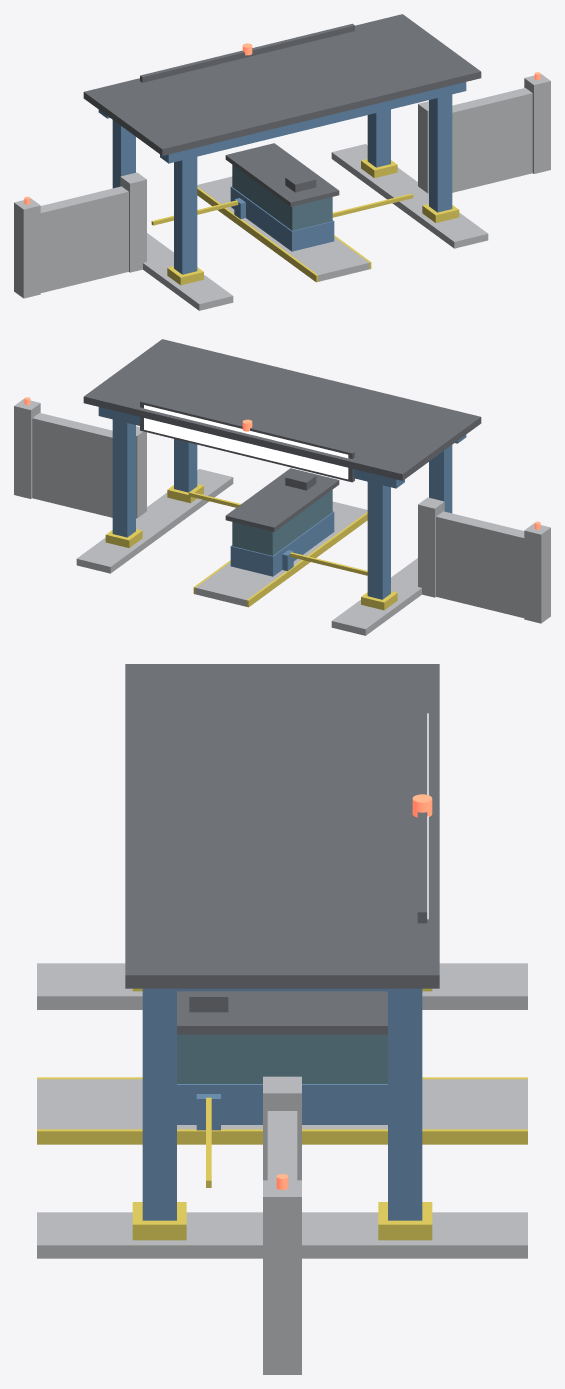
The model's file is harbor_security_gate.glb.
The picture shows the model from 3 angles, top to bottom: view 1: azimuth 30°, elevation 25°; view 2: azimuth 150°, elevation 25°; view 3: azimuth 270°, elevation 25°; orthographic projection. The views are drawn at different scales.
Visible parts, largest first — view 1: Canopy_Roof, Wall_Left_1, Wall_Right_1, Right_Curb, Booth_Roof, Canopy_Pillar_6.0_-2.5, Canopy_Pillar_-6.0_-2.5, Overhead_Beam_Rear, Center_Island, Wall_Left_Post_2, Booth_Glass, Left_Curb (+13 smaller); view 2: Canopy_Roof, Wall_Left_1, Wall_Right_1, Right_Curb, Sign_Plate_Front, Booth_Roof, Canopy_Pillar_6.0_2.5, Canopy_Pillar_-6.0_2.5, Center_Island, Wall_Left_Post_2, Booth_Glass, Left_Curb (+14 smaller); view 3: Canopy_Roof, Right_Curb, Center_Island, Booth_Glass, Left_Curb, Booth_Roof, Canopy_Pillar_6.0_2.5, Canopy_Pillar_6.0_-2.5, Wall_Right_Post_2, Booth_Base, Center_Curb_Hazard_R, Sign_Frame_Front (+6 smaller).
Boxes of the visible parts, bbox=[...] form: Canopy_Roof: bbox=[83, 14, 481, 155]; Wall_Left_1: bbox=[40, 186, 128, 292]; Wall_Right_1: bbox=[452, 88, 532, 192]; Right_Curb: bbox=[331, 144, 488, 248]; Booth_Roof: bbox=[225, 143, 339, 206]; Canopy_Pillar_6.0_-2.5: bbox=[429, 85, 452, 212]; Canopy_Pillar_-6.0_-2.5: bbox=[174, 148, 197, 274]; Overhead_Beam_Rear: bbox=[160, 82, 466, 163]; Center_Island: bbox=[197, 176, 369, 281]; Wall_Left_Post_2: bbox=[14, 198, 40, 298]; Booth_Glass: bbox=[232, 165, 332, 230]; Left_Curb: bbox=[143, 233, 233, 310]; Canopy_Roof: bbox=[83, 339, 481, 480]; Wall_Left_1: bbox=[436, 511, 524, 617]; Wall_Right_1: bbox=[32, 413, 112, 517]; Right_Curb: bbox=[76, 469, 233, 573]; Sign_Plate_Front: bbox=[144, 405, 348, 479]; Booth_Roof: bbox=[225, 468, 339, 531]; Canopy_Pillar_6.0_2.5: bbox=[112, 410, 135, 537]; Canopy_Pillar_-6.0_2.5: bbox=[367, 472, 390, 599]; Center_Island: bbox=[195, 501, 367, 606]; Wall_Left_Post_2: bbox=[524, 523, 550, 623]; Booth_Glass: bbox=[232, 490, 332, 555]; Left_Curb: bbox=[331, 558, 421, 635]; Canopy_Roof: bbox=[125, 664, 439, 988]; Right_Curb: bbox=[37, 1212, 527, 1258]; Center_Island: bbox=[37, 1079, 527, 1129]; Booth_Glass: bbox=[177, 1034, 387, 1083]; Left_Curb: bbox=[37, 963, 527, 1009]; Booth_Roof: bbox=[177, 991, 387, 1034]; Canopy_Pillar_6.0_2.5: bbox=[388, 1005, 422, 1220]; Canopy_Pillar_6.0_-2.5: bbox=[142, 1005, 176, 1220]; Wall_Right_Post_2: bbox=[263, 1180, 301, 1374]; Booth_Base: bbox=[177, 1084, 387, 1124]; Center_Curb_Hazard_R: bbox=[37, 1129, 527, 1144]; Sign_Frame_Front: bbox=[417, 704, 427, 923].
Bounding box in the file's own units: 24.8 × 7.17 × 10.
